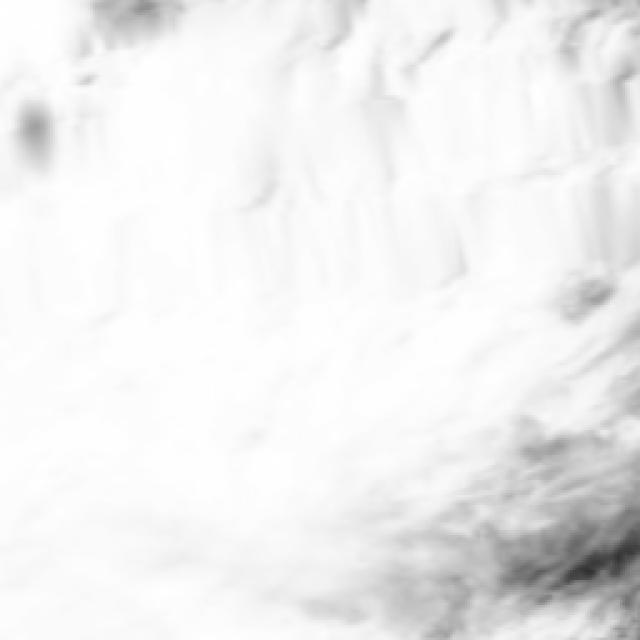CB: (18, 207, 346, 547)
